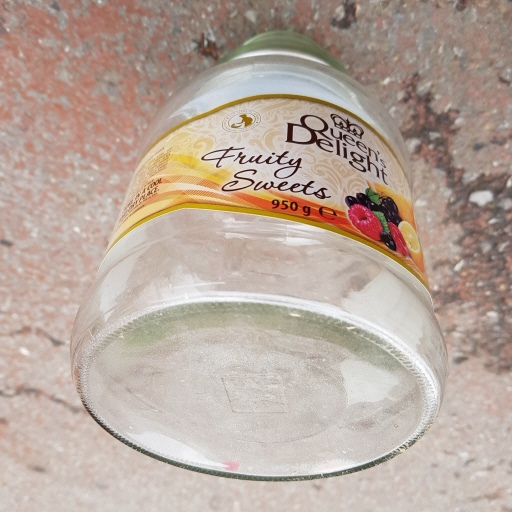Glass_5: (67, 29, 451, 476)
